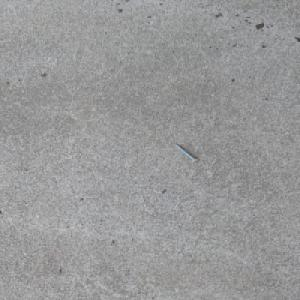Screw: (173, 143, 199, 162)
